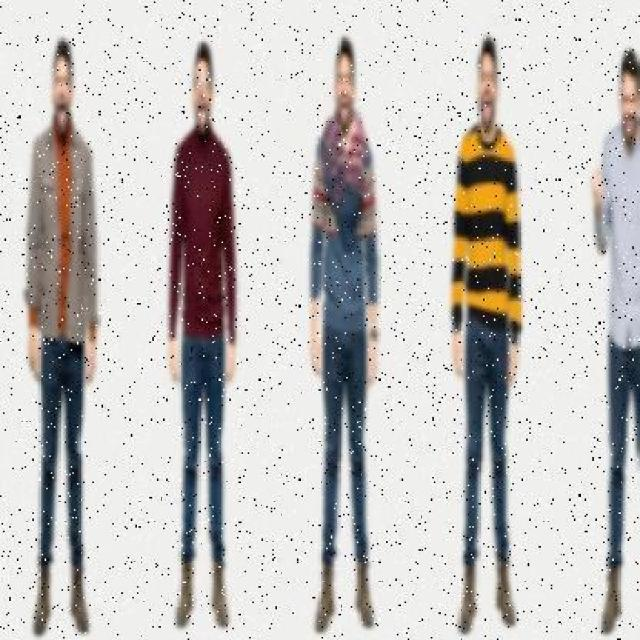person: (25, 35, 97, 640), (307, 35, 378, 634), (450, 37, 521, 634), (168, 37, 238, 631), (594, 45, 640, 632)
